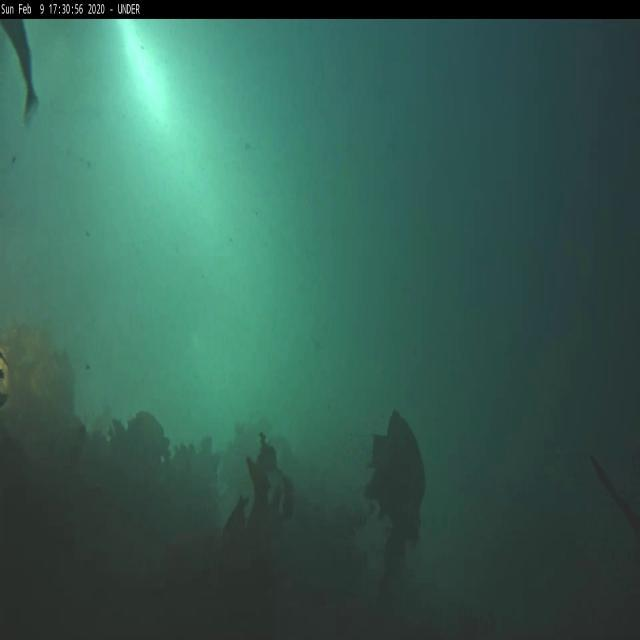fish: (3, 18, 42, 122)
